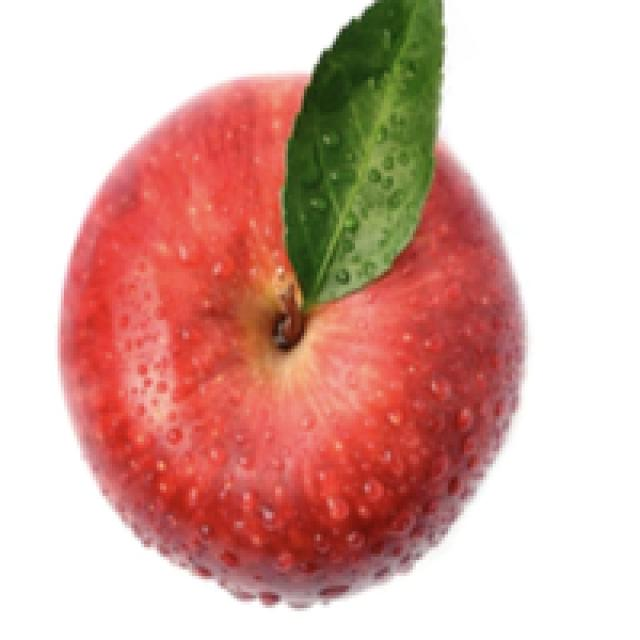apple: (51, 0, 534, 611)
